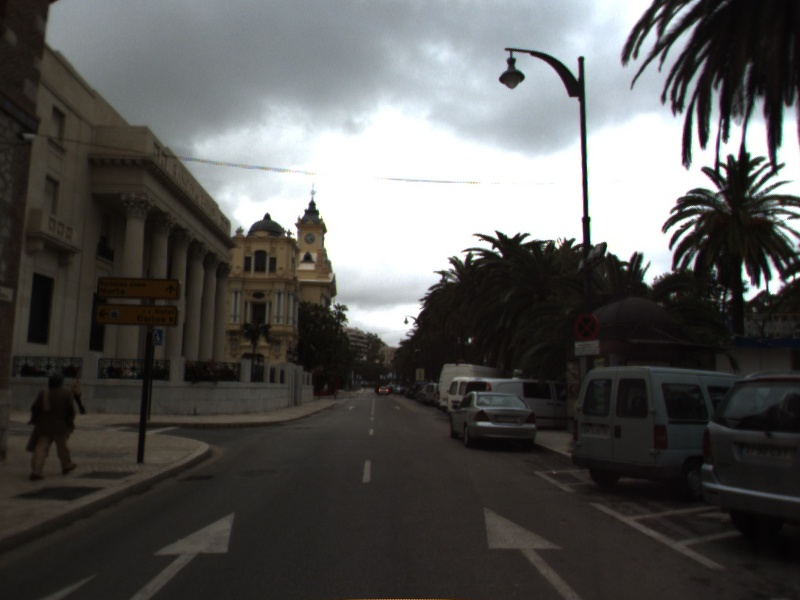STRAIGHT: (123, 507, 239, 600), (479, 503, 587, 600)
